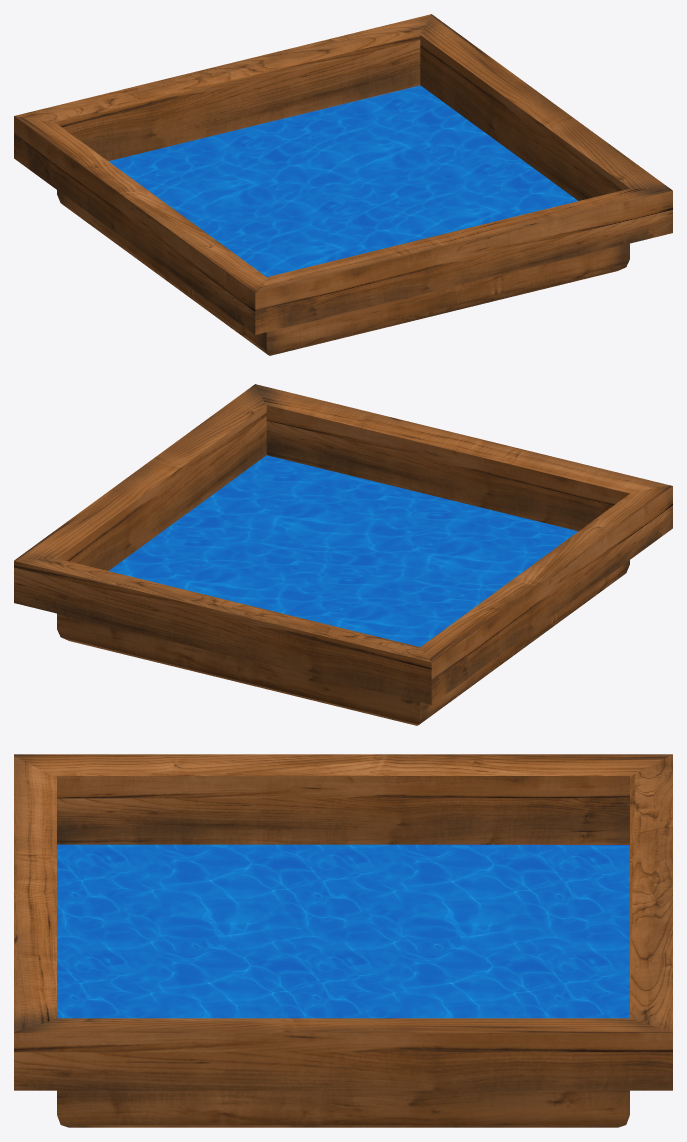
File: sandBoxWaterEmpty.fbx
3 views of the same model, one above another, from view 1: azimuth 30°, elevation 25°; view 2: azimuth 150°, elevation 25°; view 3: azimuth 270°, elevation 25° (orthographic). The views are drawn at different scales.
Parts seen in each view (by area): view 1: polySurface13; view 2: polySurface13; view 3: polySurface13.
Boxes of the visible parts, x1=… form: polySurface13: x1=14, y1=14, x2=672, y2=355; polySurface13: x1=14, y1=384, x2=672, y2=725; polySurface13: x1=14, y1=754, x2=672, y2=1127.
Bounding box in the file's own units: 23.91 × 4.8 × 23.91.
